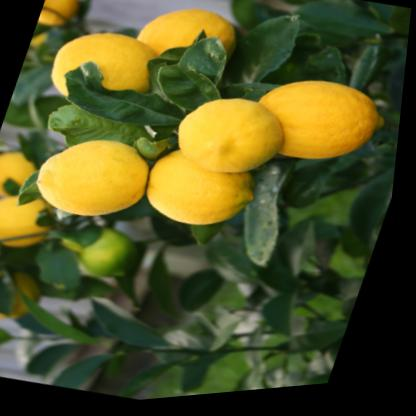--: (229, 49, 409, 193), (124, 128, 280, 256), (25, 121, 171, 240), (166, 84, 303, 201)
